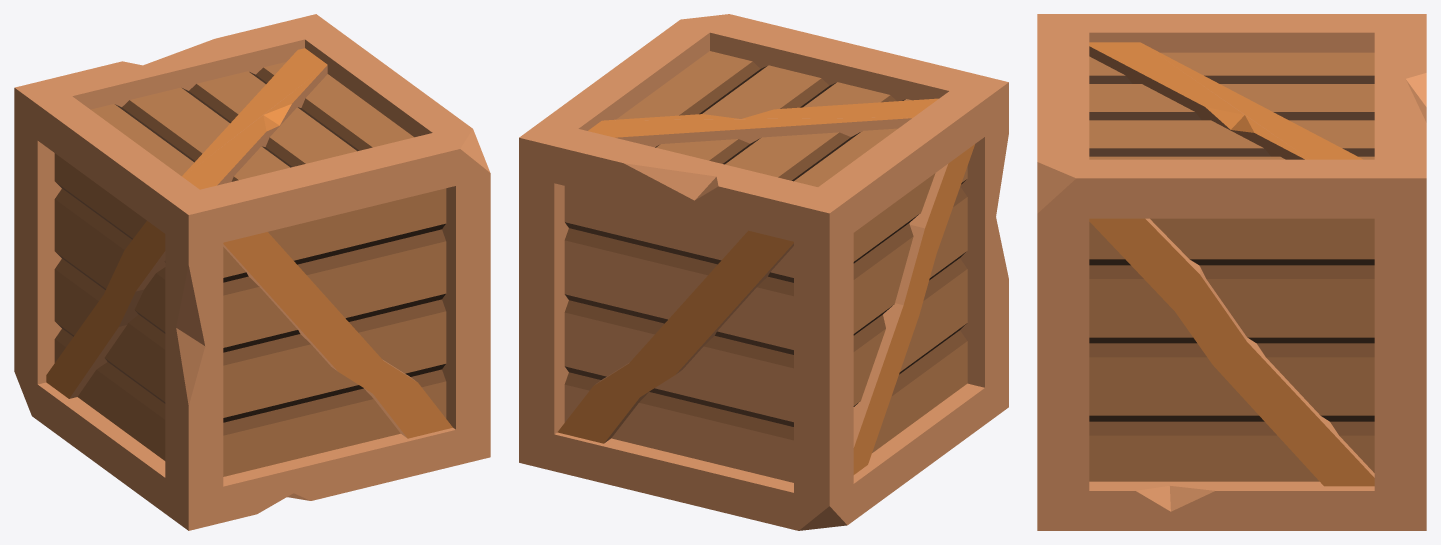
The model's file is crate.fbx.
3 renders of one model, left to right at view 1: azimuth 30°, elevation 25°; view 2: azimuth 150°, elevation 25°; view 3: azimuth 270°, elevation 25°, orthographic. The views are drawn at different scales.
Parts seen in each view (by area): view 1: SM_Prop_Crate_03; view 2: SM_Prop_Crate_03; view 3: SM_Prop_Crate_03.
Part boxes in pixels (x1,y1,x2,y2): SM_Prop_Crate_03: [14, 14, 490, 530]; SM_Prop_Crate_03: [519, 14, 1008, 530]; SM_Prop_Crate_03: [1037, 14, 1426, 530].
Bounding box in the file's own units: 99.65 × 99.65 × 99.65.
